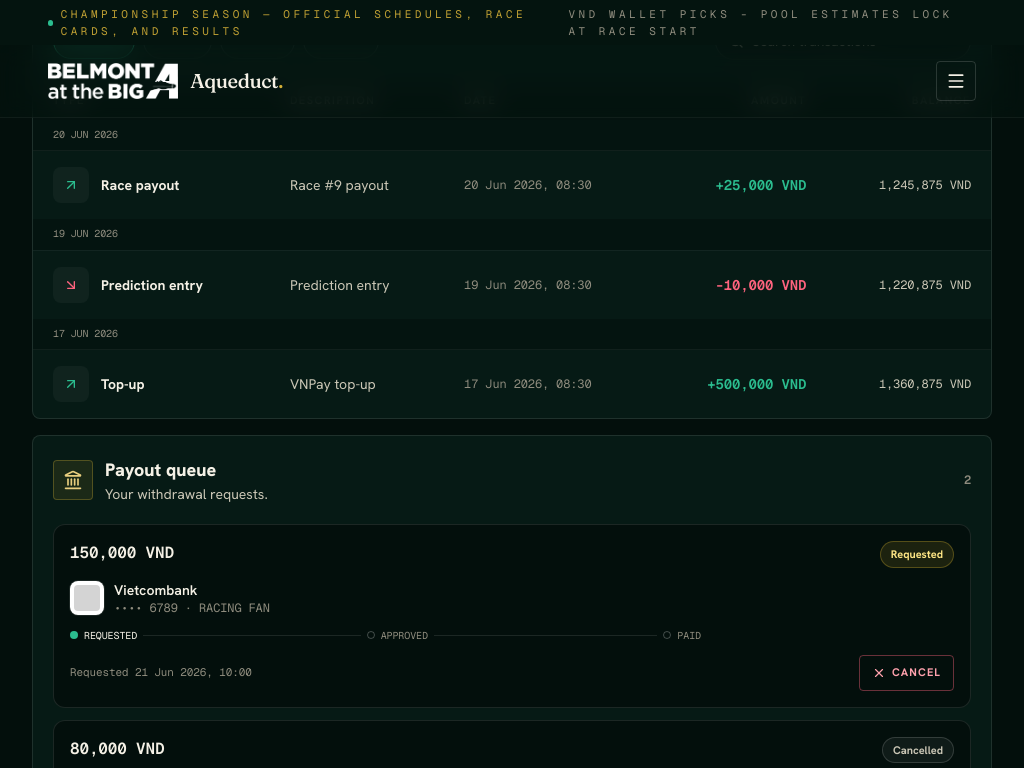
Test: WalletPage › omits payment rows a legacy top-up never recorded
The width and height of the screenshot is (1024, 768).
(page scrolled)
Step 1. Click the button with aria-label "view details for top-up" → click(99, 384), box [53, 366, 144, 402]
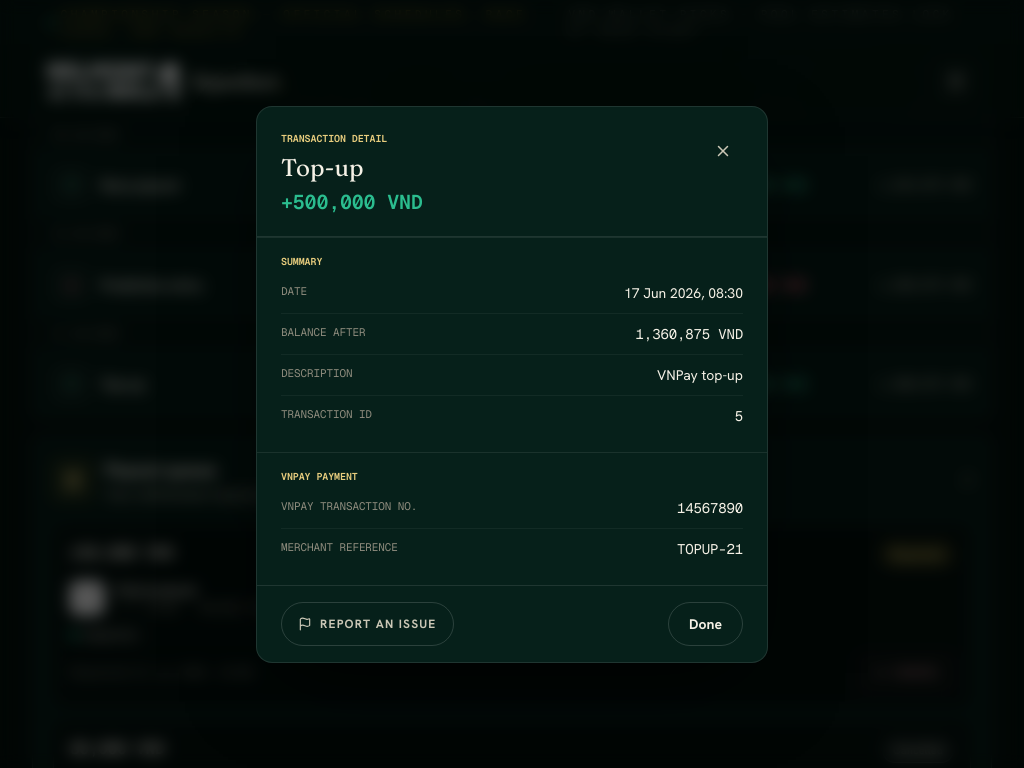
Result: the text "14567890" is shown at [677, 498, 743, 518]
